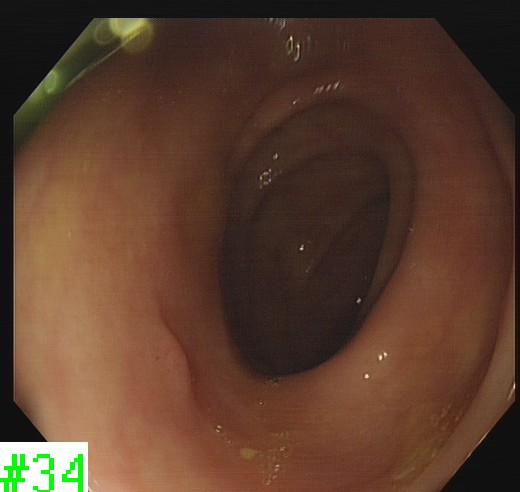others: (152, 318, 200, 414)
